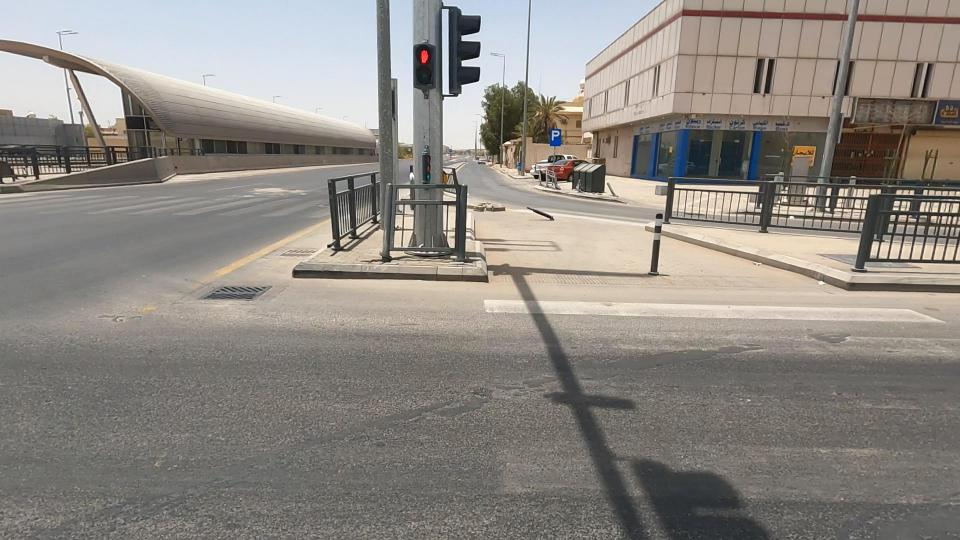BAD_BILLBOARD: (799, 70, 960, 153)
